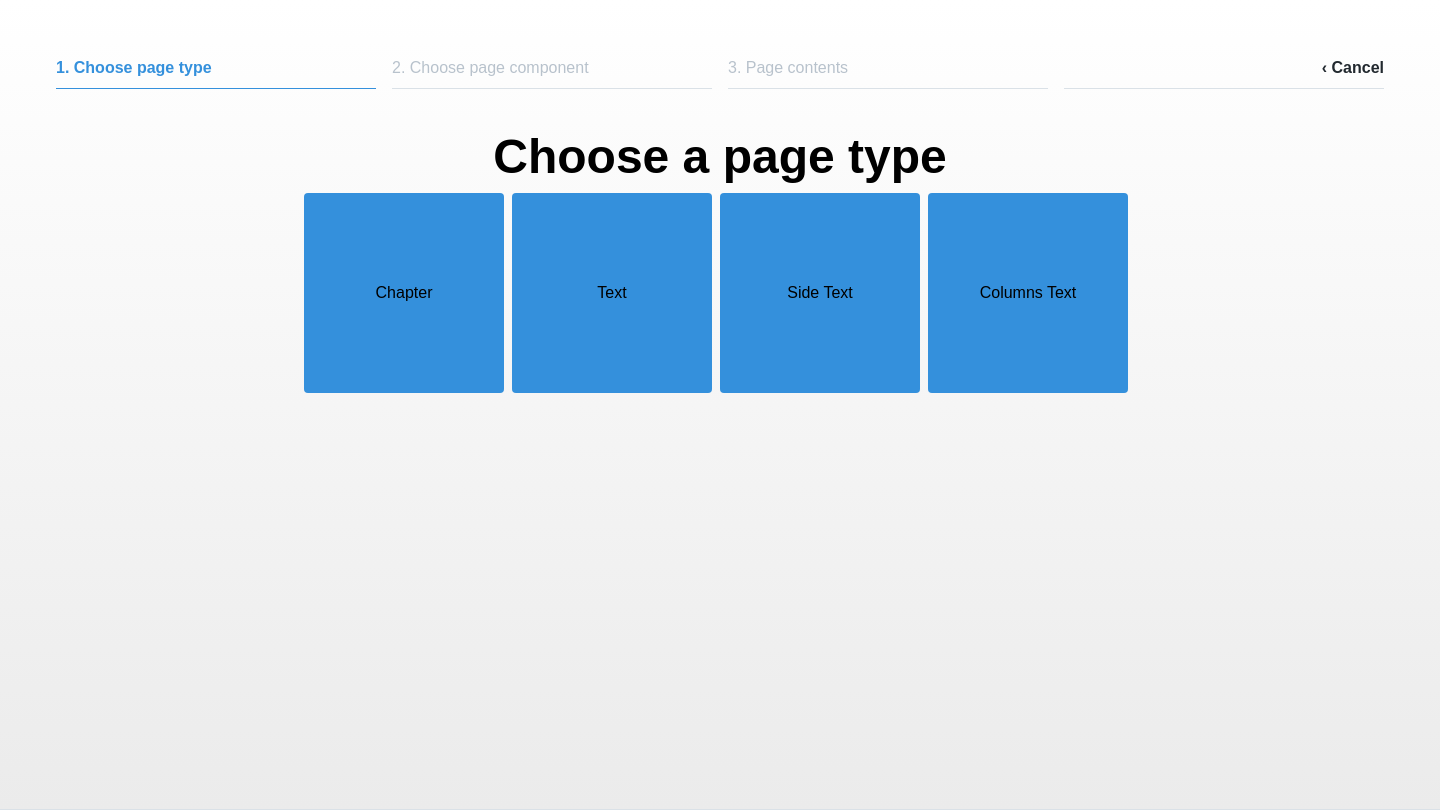
Test: PageSteps.vue › presents a list of components available for text-side type
Expected: the element showing "Choose a page type Chapter Text Side Text Columns Text" is shown, [304,130,1128,393]
Click the list item with id "type-text-side" at (820, 293), box [720,193,920,393]
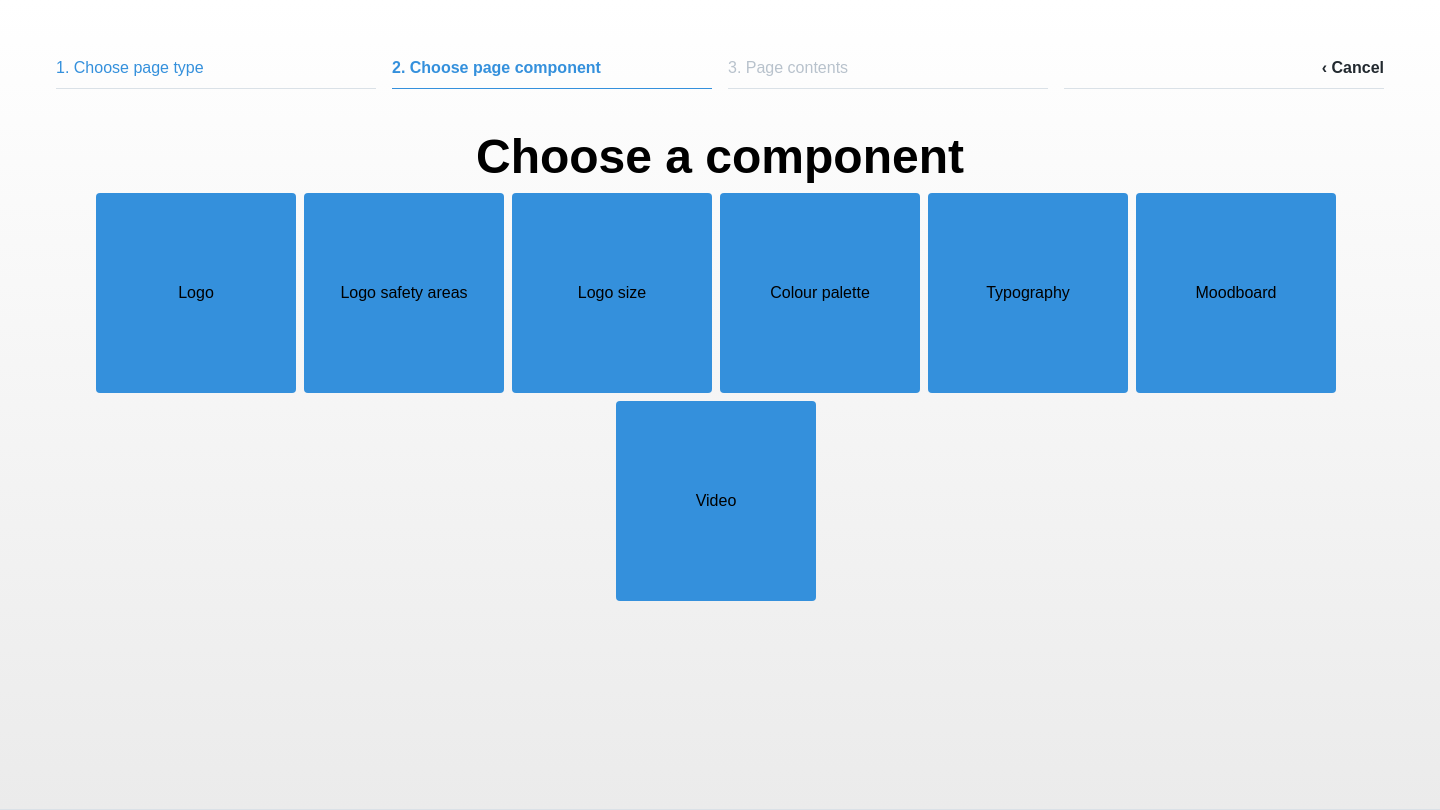
Now the element that starts with "Choose a component" is shown, box [48,121,1392,609]
Now the list item with id "component-logo" is shown, box [96,193,296,393]
Now the list item with id "component-logo-safety" is shown, box [304,193,504,393]
